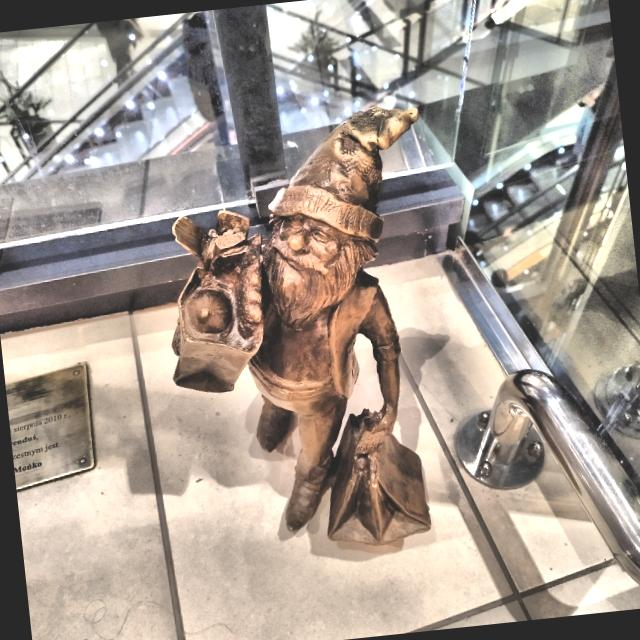Trendus: (171, 105, 432, 552)
